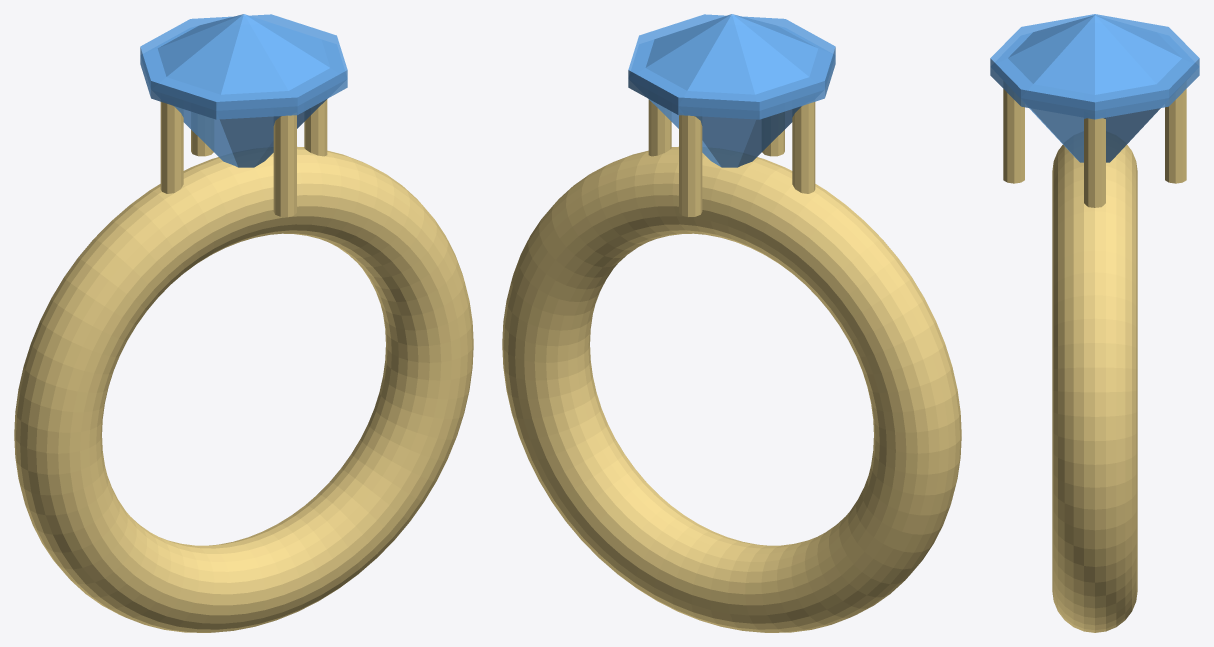
Rendered from card-01.glb.
3 renders of one model, left to right at view 1: azimuth 30°, elevation 25°; view 2: azimuth 150°, elevation 25°; view 3: azimuth 270°, elevation 25°, orthographic. The views are drawn at different scales.
Visible parts, largest first — view 1: band, gem, prongs; view 2: band, gem, prongs; view 3: band, gem, prongs.
Boxes of the visible parts, x1=… form: band: x1=14, y1=146, x2=473, y2=632; gem: x1=140, y1=14, x2=347, y2=167; prongs: x1=160, y1=99, x2=327, y2=216; band: x1=502, y1=146, x2=961, y2=632; gem: x1=628, y1=14, x2=835, y2=167; prongs: x1=648, y1=99, x2=815, y2=216; band: x1=1052, y1=144, x2=1137, y2=632; gem: x1=990, y1=14, x2=1199, y2=162; prongs: x1=1003, y1=88, x2=1186, y2=207.
Size of the model in its own units: 0.53 by 0.69 by 0.22.
